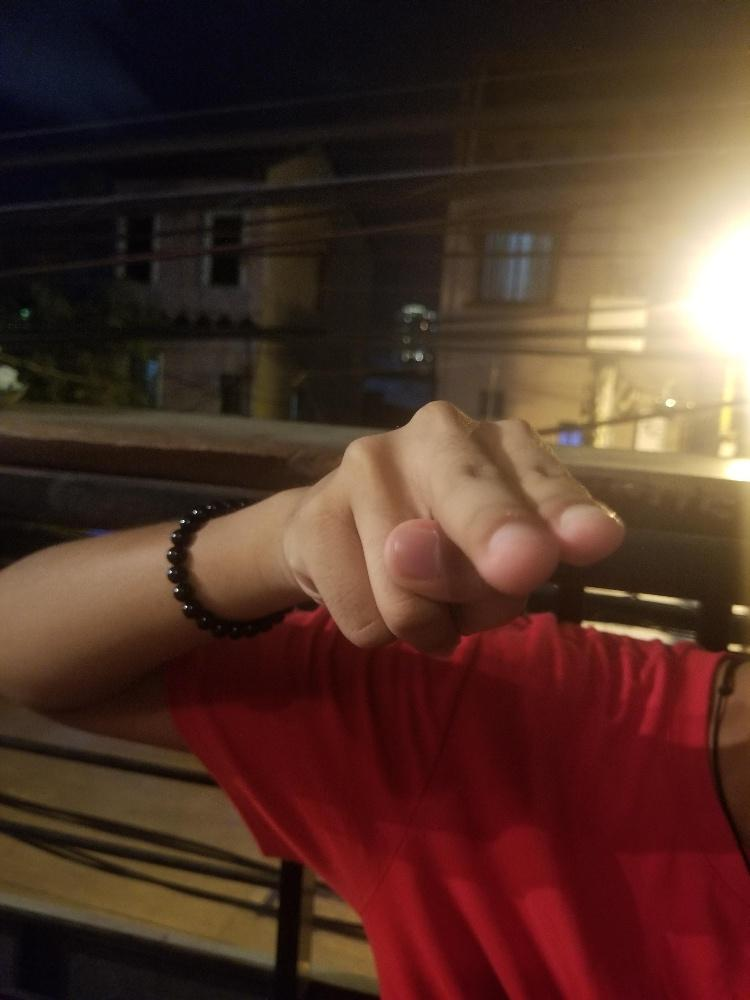n: (281, 397, 627, 660)
